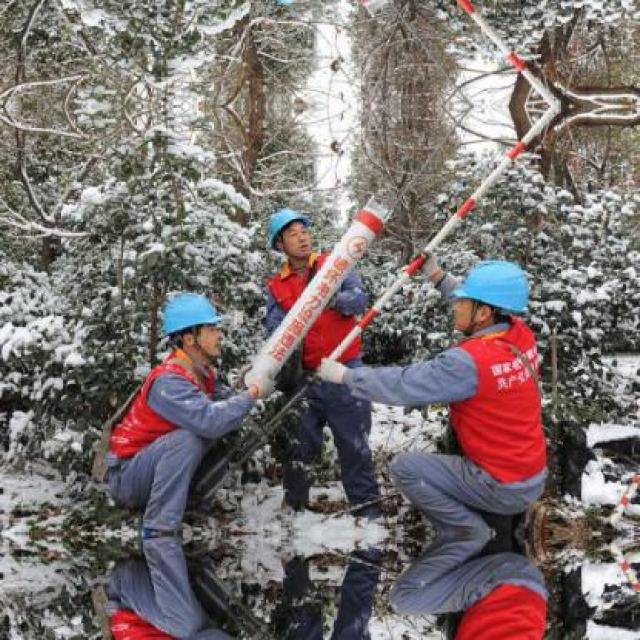helmet: (446, 255, 529, 339), (155, 288, 230, 364), (258, 200, 320, 260), (258, 0, 321, 12)
